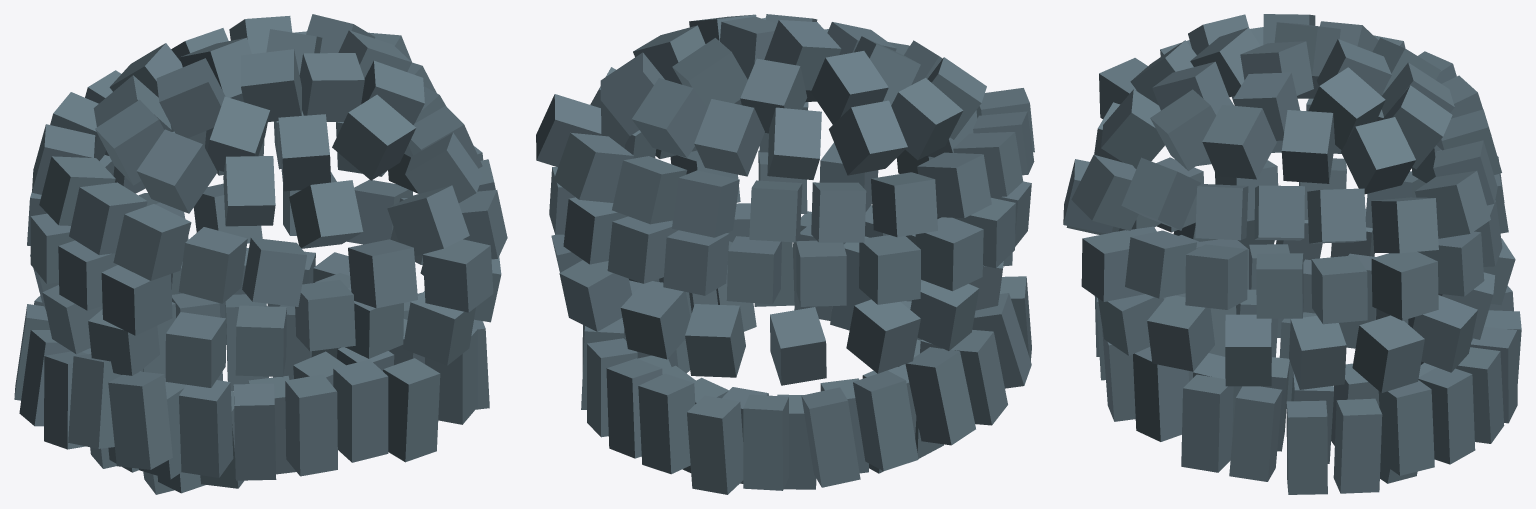
Rendered from 3dui_project_background.glb.
The picture shows the model from 3 angles, left to right: view 1: azimuth 30°, elevation 25°; view 2: azimuth 150°, elevation 25°; view 3: azimuth 270°, elevation 25°; orthographic projection. The views are drawn at different scales.
Parts seen in each view (by area): view 1: node_MeshObject1542329344-PolyPaper21; view 2: node_MeshObject1542329344-PolyPaper21; view 3: node_MeshObject1542329344-PolyPaper21.
Part boxes in pixels (box(x1,y1,x2,y2)): node_MeshObject1542329344-PolyPaper21: box(14, 14, 507, 494); node_MeshObject1542329344-PolyPaper21: box(536, 14, 1034, 494); node_MeshObject1542329344-PolyPaper21: box(1063, 14, 1521, 494).
Size of the model in its own units: 3.75 by 3.5 by 3.61.
